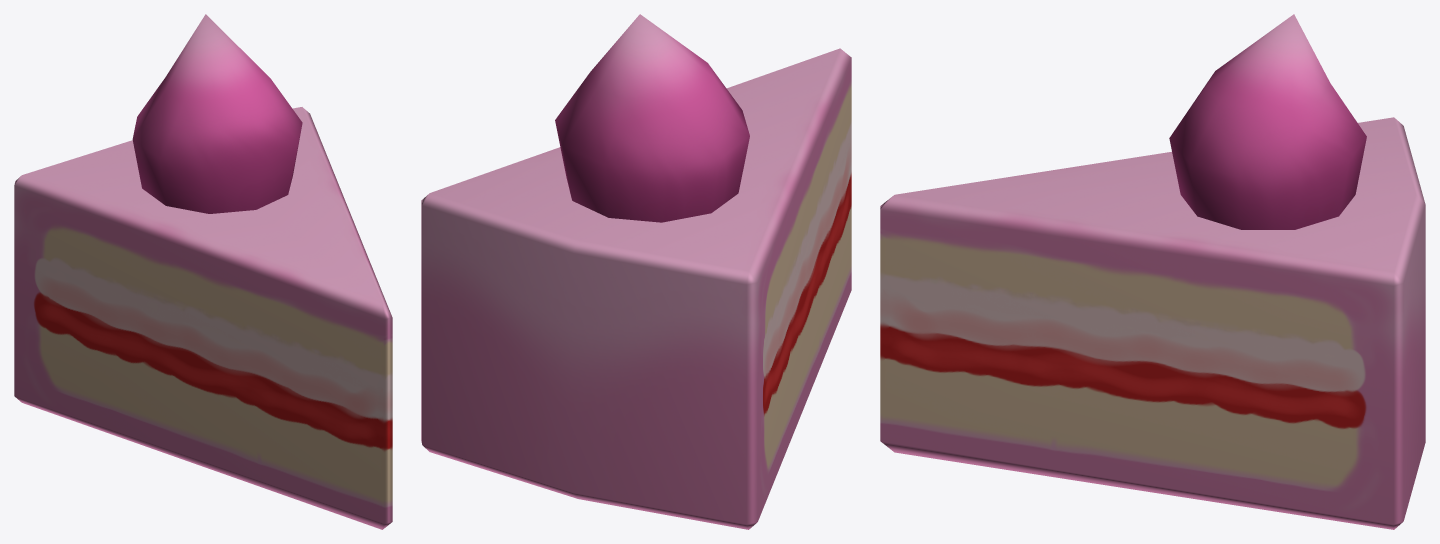
Rendered from PrincessCake_Blob_Geo.fbx.
3 views of the same model, side by side, from view 1: azimuth 30°, elevation 25°; view 2: azimuth 150°, elevation 25°; view 3: azimuth 270°, elevation 25° (orthographic). The views are drawn at different scales.
Visible parts, largest first — view 1: PrincessCake_Blob_Geo; view 2: PrincessCake_Blob_Geo; view 3: PrincessCake_Blob_Geo.
Boxes of the visible parts, bbox=[...] form: PrincessCake_Blob_Geo: bbox=[14, 14, 392, 529]; PrincessCake_Blob_Geo: bbox=[421, 14, 851, 529]; PrincessCake_Blob_Geo: bbox=[880, 14, 1425, 529].
Size of the model in its own units: 37.18 by 46.49 by 52.4.
